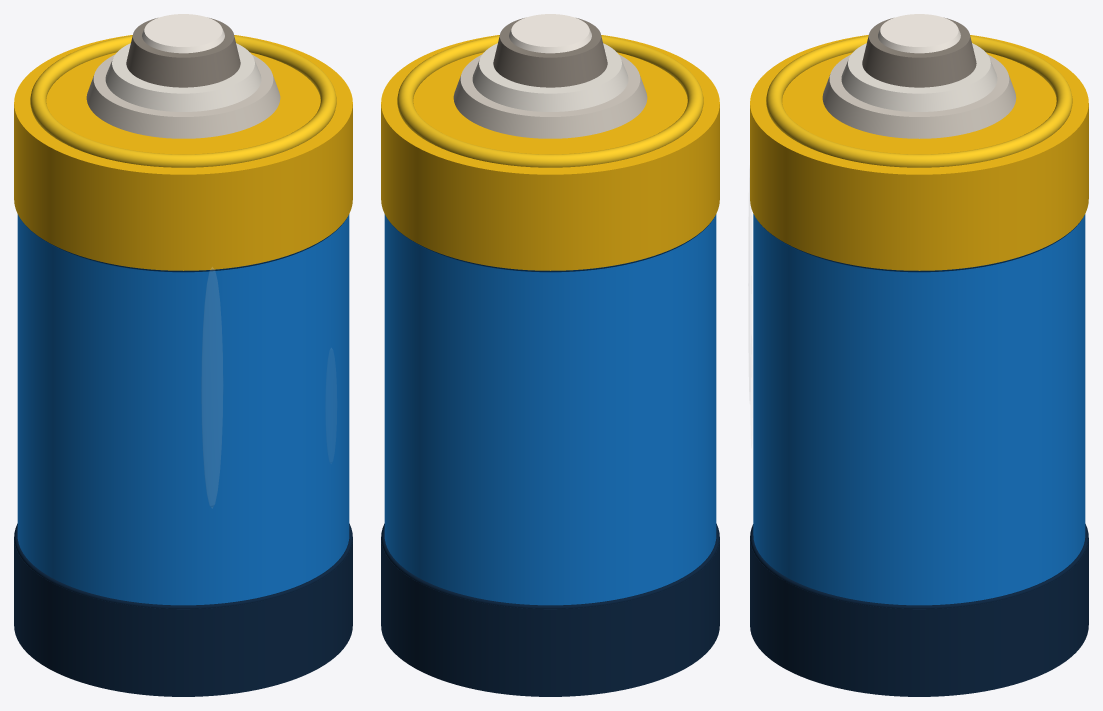
File: test-battery-body.glb
3 views of the same model, side by side, from view 1: azimuth 30°, elevation 25°; view 2: azimuth 150°, elevation 25°; view 3: azimuth 270°, elevation 25° (orthographic).
Parts seen in each view (by area): view 1: TestBatteryBody; view 2: TestBatteryBody; view 3: TestBatteryBody.
Boxes of the visible parts, left/top/right/bottom form: TestBatteryBody: left=14, top=14, right=352, bottom=696; TestBatteryBody: left=381, top=14, right=719, bottom=696; TestBatteryBody: left=748, top=14, right=1088, bottom=696.
Size of the model in its own units: 1.47 by 2.91 by 1.48.
